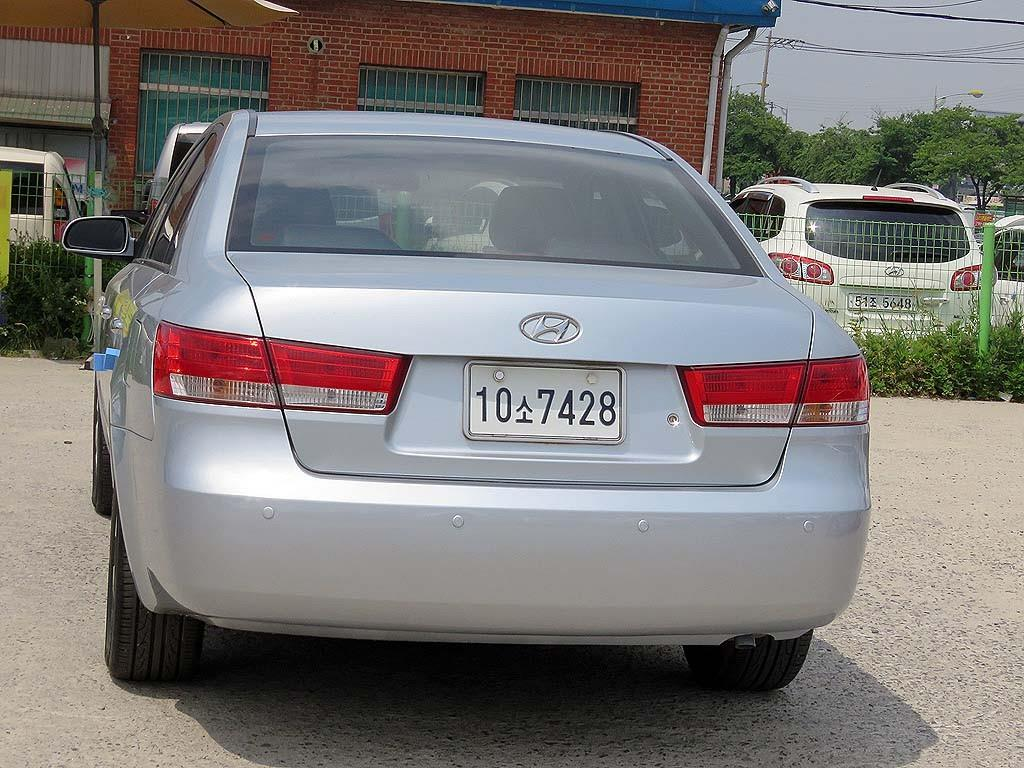plate: (470, 365, 621, 438)
